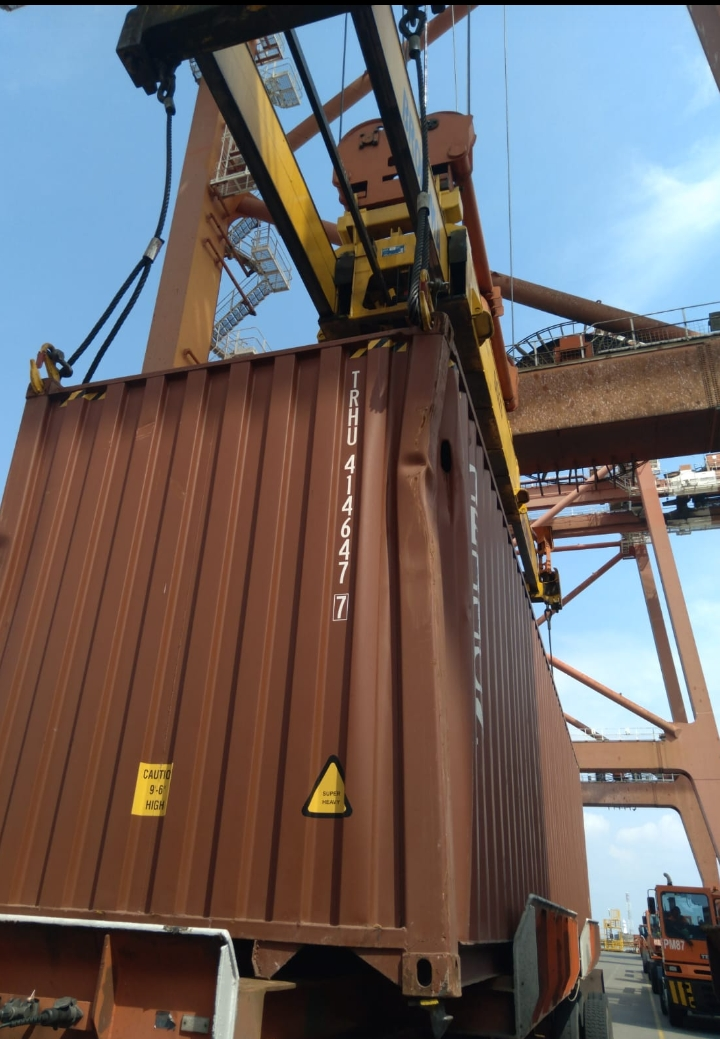moderate: (377, 409, 499, 596)
